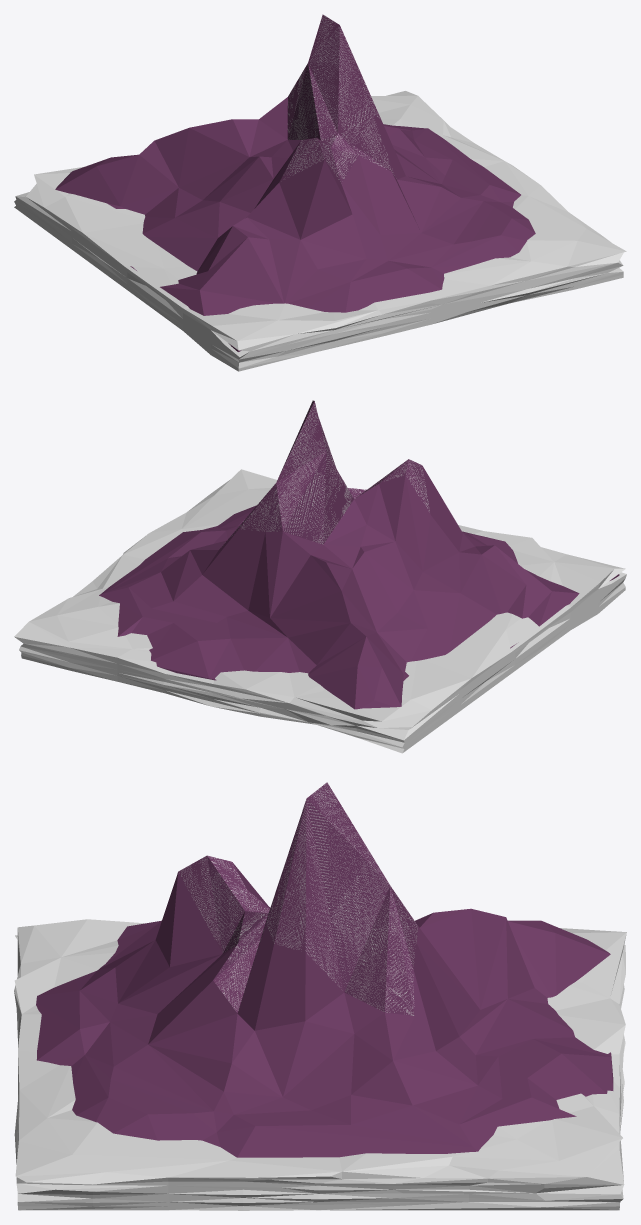
File: tile_mountain.fbx
3 renders of one model, top to bottom at view 1: azimuth 30°, elevation 25°; view 2: azimuth 150°, elevation 25°; view 3: azimuth 270°, elevation 25°, orthographic. The views are drawn at different scales.
Parts seen in each view (by area): view 1: mountain tile; view 2: mountain tile; view 3: mountain tile.
Part boxes in pixels (x1,y1,x2,y2): mountain tile: (14,14,626,371); mountain tile: (14,400,626,753); mountain tile: (14,782,626,1210).
Bounding box in the file's own units: 102 × 56.87 × 102.
